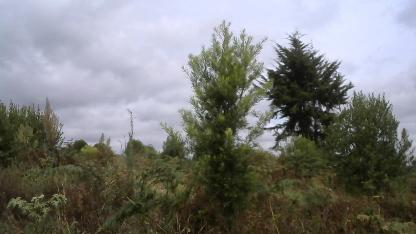tree: (176, 17, 271, 215)
